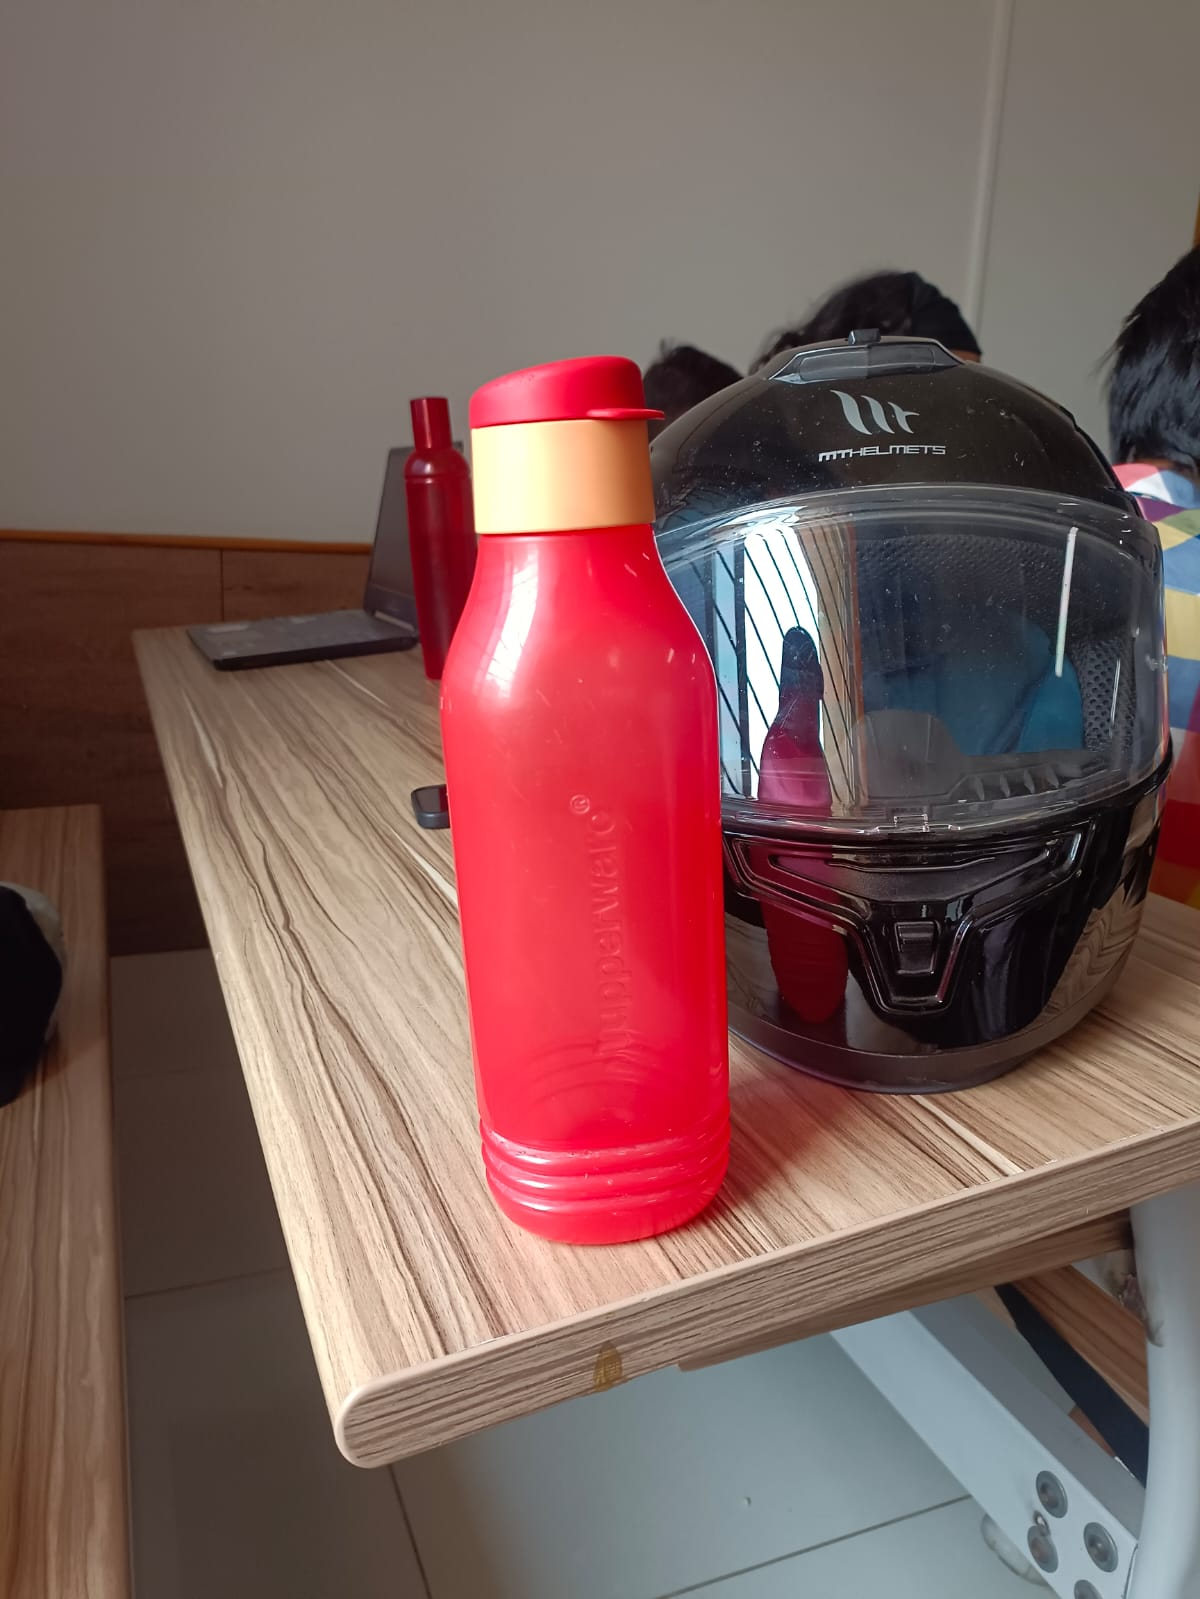bottle: (432, 350, 751, 1251)
